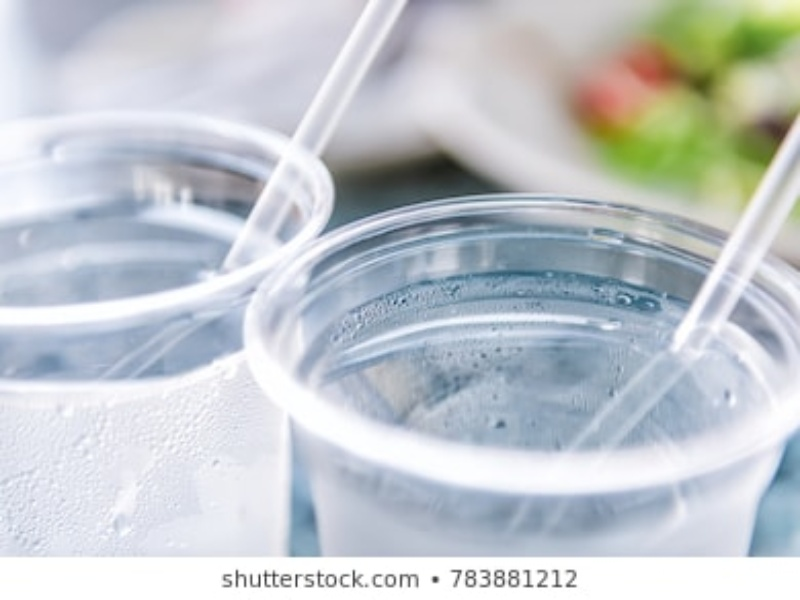plastic-cup: (248, 195, 793, 556), (1, 106, 321, 556)
straw: (108, 1, 410, 372), (550, 132, 798, 464)
